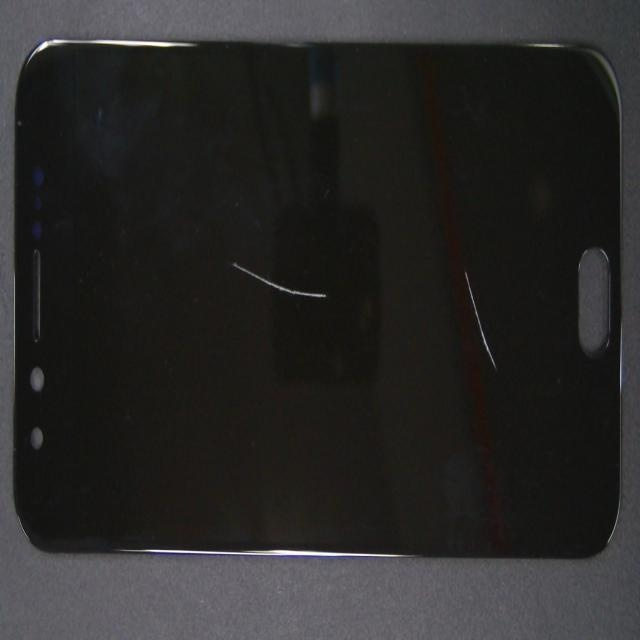scratch: (268, 235, 640, 488), (217, 168, 454, 421)
